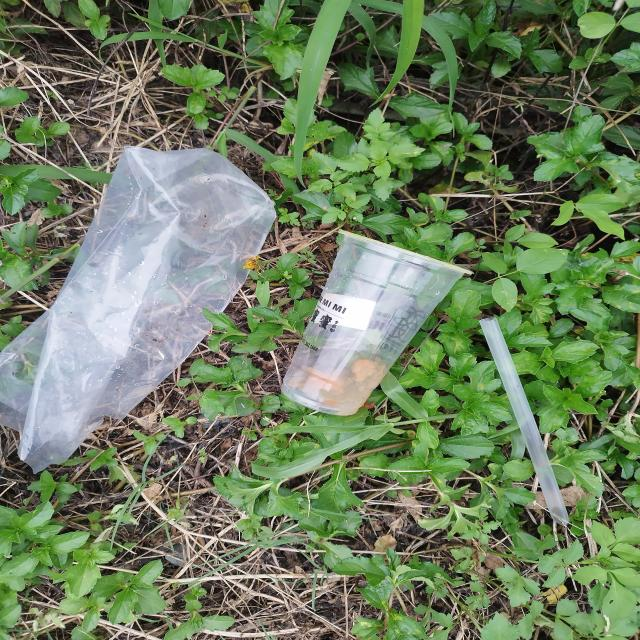bag: (0, 144, 278, 473)
drinking straw: (481, 315, 568, 524)
plastic glass: (282, 229, 474, 416)
